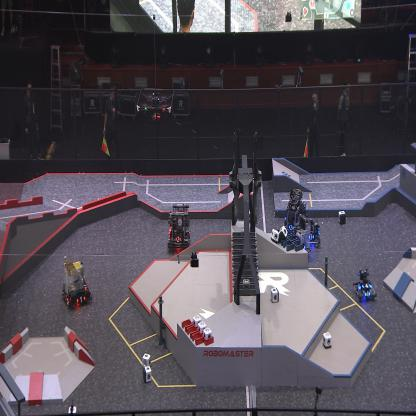car: (61, 257, 93, 308), (283, 188, 307, 239), (167, 201, 191, 250), (291, 214, 310, 259), (353, 268, 376, 302), (303, 216, 321, 248)
